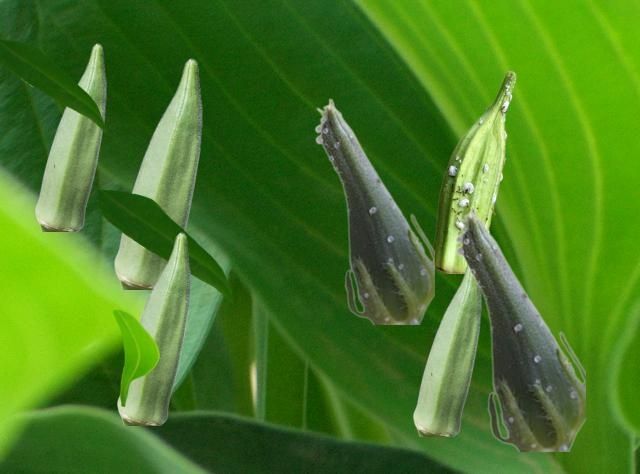okra: (454, 206, 584, 450), (314, 98, 433, 323), (114, 58, 201, 288), (431, 71, 515, 272), (117, 232, 189, 424), (35, 43, 105, 230), (413, 267, 480, 435)
